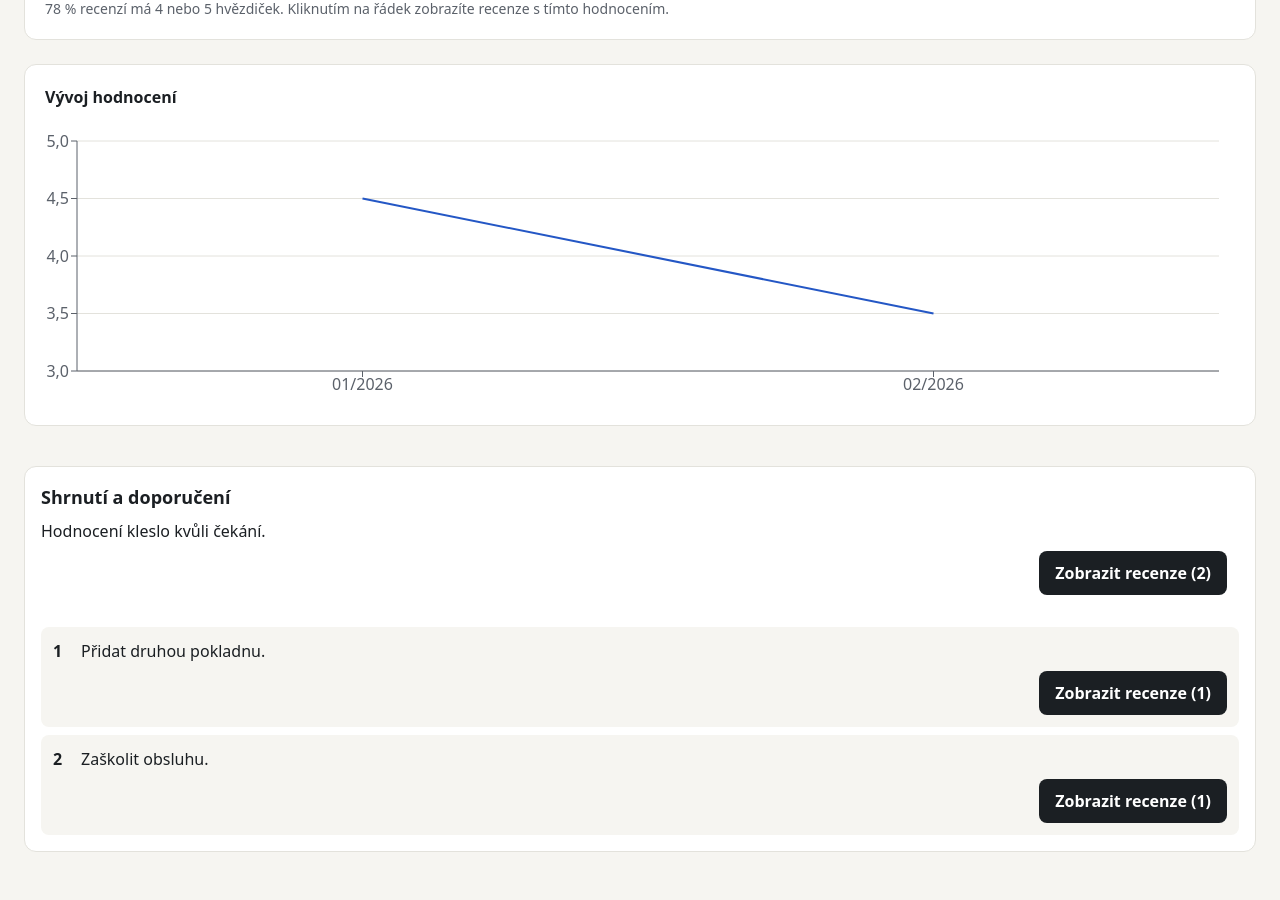
Scenario: Summary and suggestions › opens the Reviews an insight cites by their IDs
The image size is (1280, 900).
(page scrolled)
Click the 1st button "Zobrazit recenze (1)" at (1133, 693), box [1039,671,1227,715]
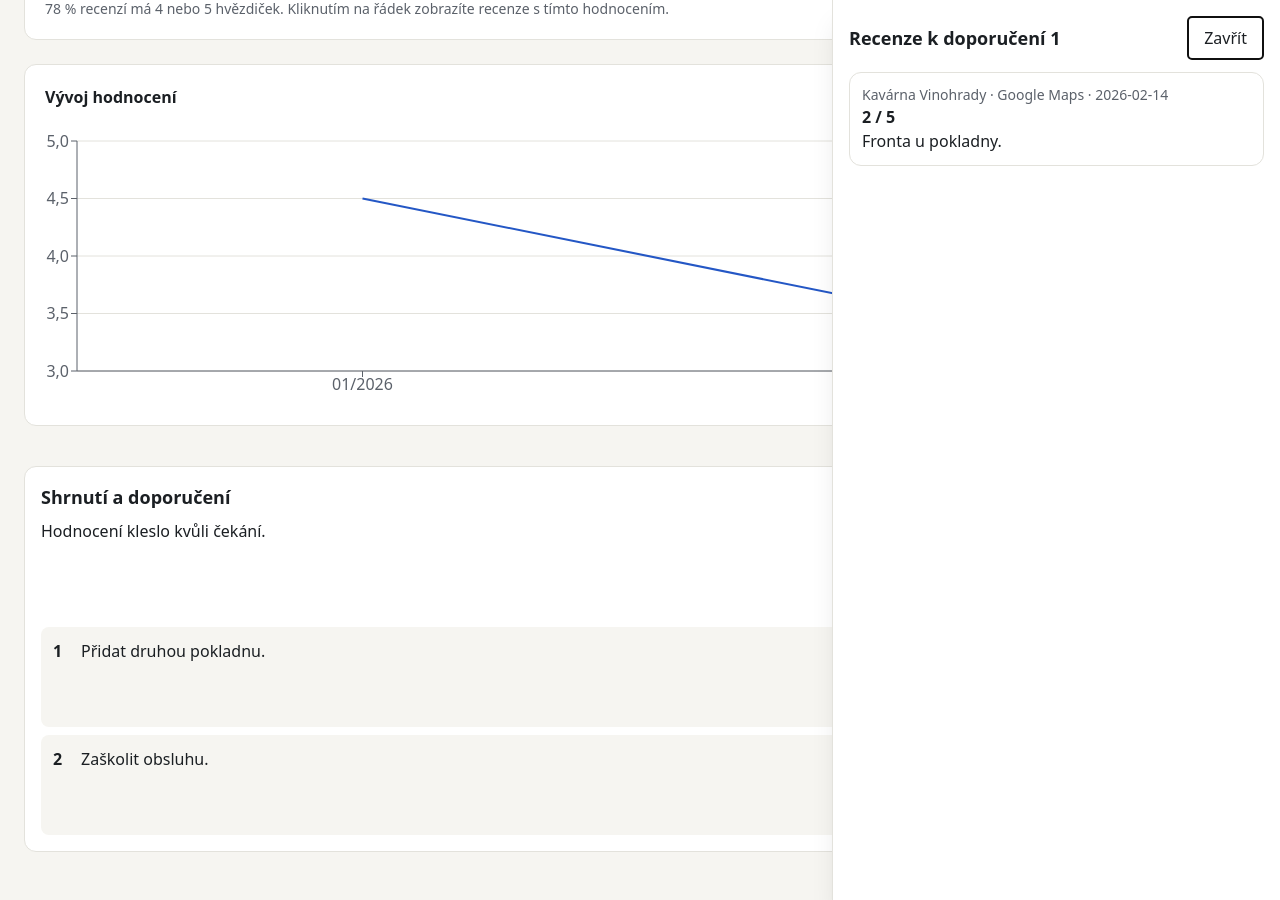
Result: the text "Fronta u pokladny." is shown at [862,130,1002,152]
